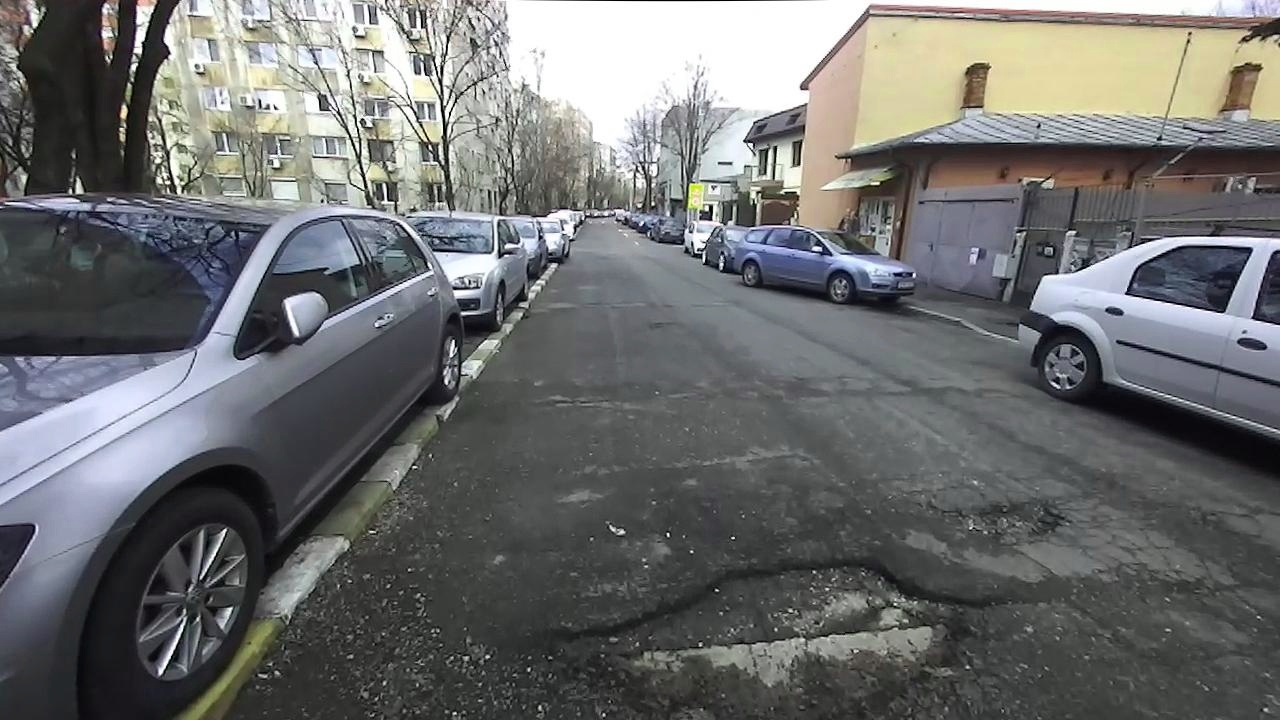pothole: (533, 554, 1009, 718), (922, 488, 1076, 550), (544, 388, 620, 411)
